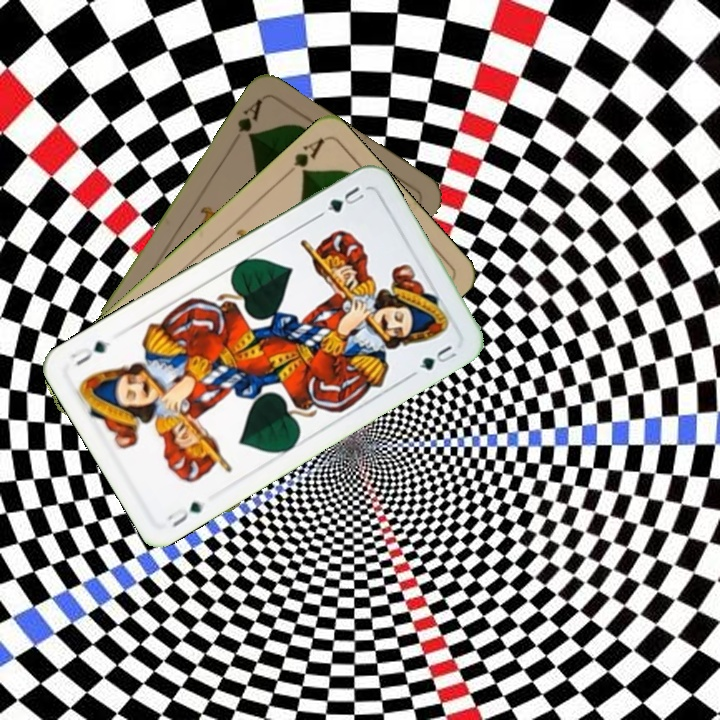GA: (279, 134, 326, 181), (233, 95, 265, 144)
GU: (315, 182, 367, 219), (163, 497, 206, 530)
